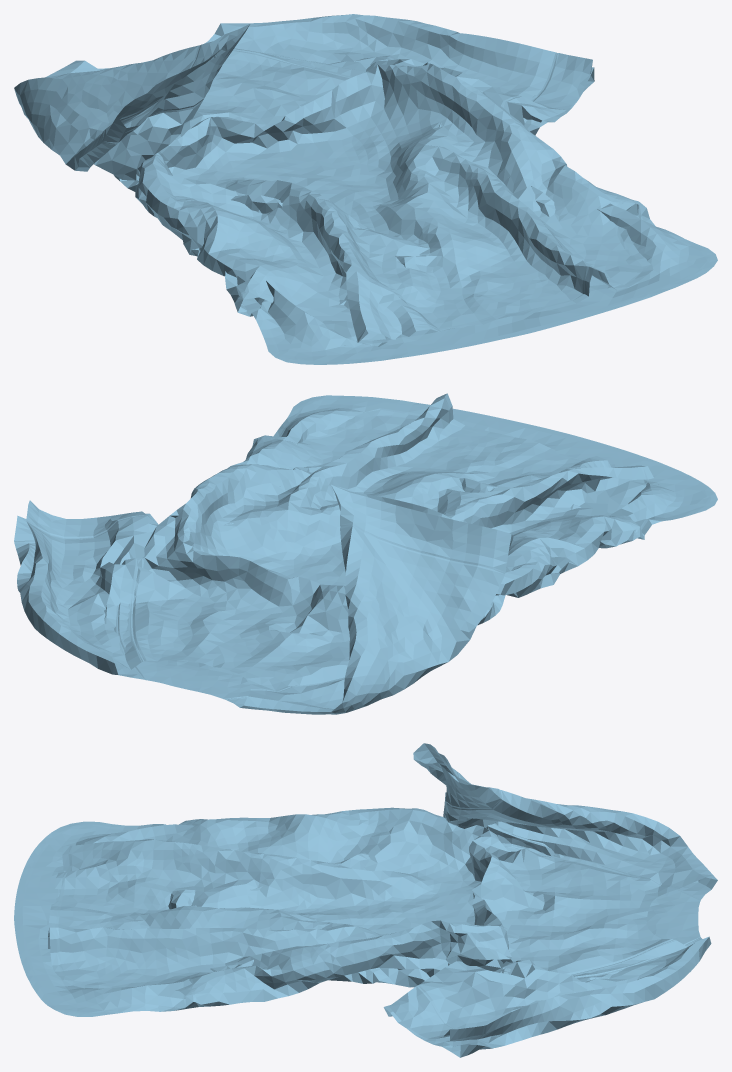
File: frame_16.glb
3 renders of one model, top to bottom at view 1: azimuth 30°, elevation 25°; view 2: azimuth 150°, elevation 25°; view 3: azimuth 270°, elevation 25°, orthographic. The views are drawn at different scales.
Visible parts, largest first — view 1: frame_16.obj; view 2: frame_16.obj; view 3: frame_16.obj.
Part boxes in pixels (<box>): frame_16.obj: <box>14,14,717,364</box>; frame_16.obj: <box>14,393,717,714</box>; frame_16.obj: <box>14,743,717,1057</box>.
Size of the model in its own units: 1.44 by 0.368 by 1.83.
